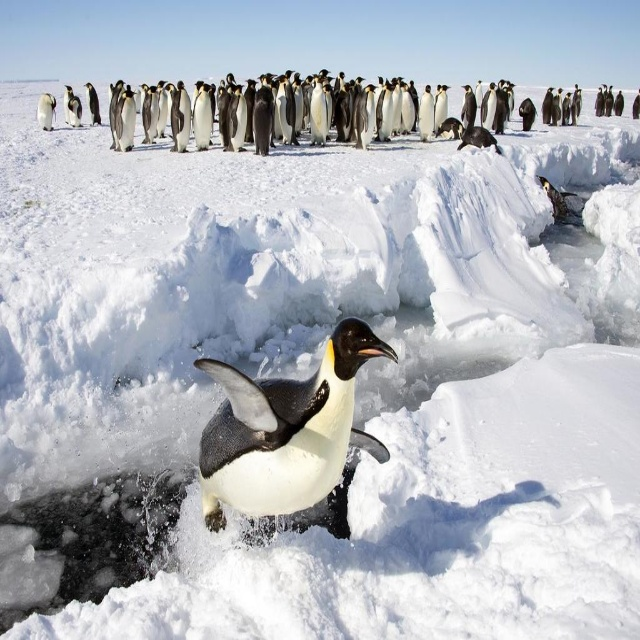Penguin: (185, 309, 405, 535), (272, 72, 301, 145), (535, 175, 575, 222), (115, 87, 138, 154), (171, 81, 192, 153), (226, 78, 248, 146), (305, 74, 327, 142), (358, 82, 378, 146), (191, 83, 210, 150), (250, 92, 270, 152), (36, 85, 57, 132), (477, 82, 497, 130), (463, 123, 496, 152), (378, 83, 394, 141), (143, 84, 157, 140), (433, 84, 449, 133), (416, 91, 432, 139), (519, 97, 536, 140), (435, 114, 463, 140), (84, 81, 99, 127), (542, 86, 555, 123), (462, 82, 473, 125), (562, 92, 573, 130), (65, 85, 73, 123), (593, 83, 602, 116), (72, 97, 82, 125), (603, 90, 613, 116), (613, 92, 622, 113), (632, 94, 639, 117)
